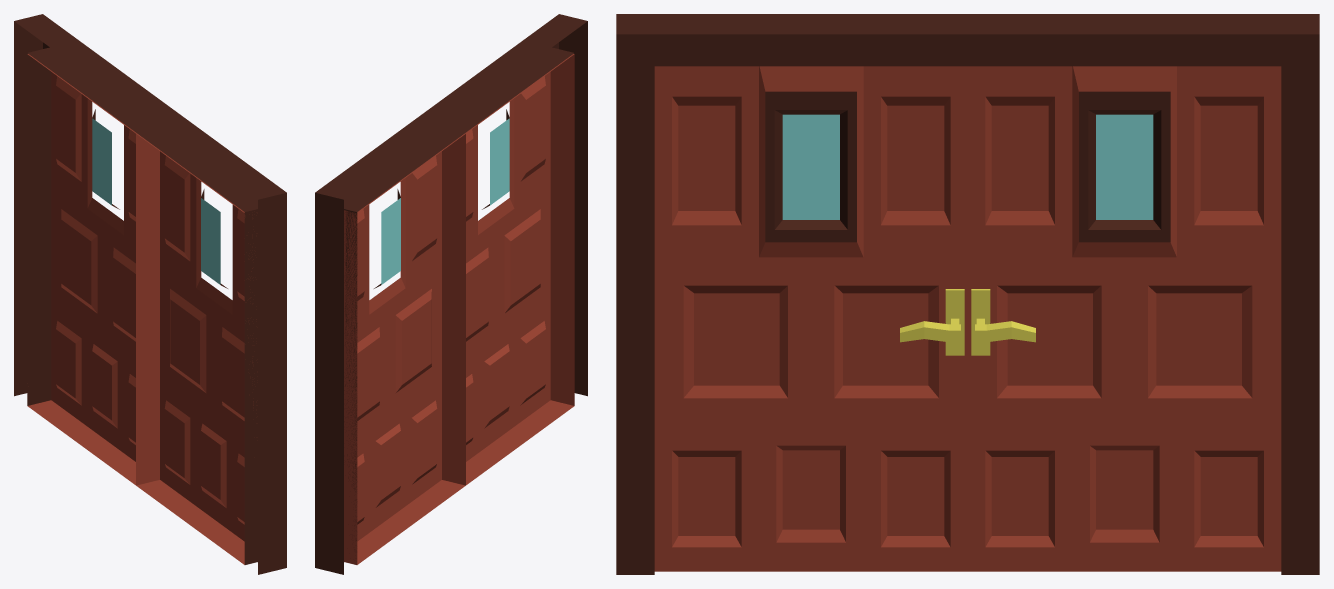
File: Puerta_ventanuco_2_hojas_01.fbx
3 renders of one model, left to right at view 1: azimuth 30°, elevation 25°; view 2: azimuth 150°, elevation 25°; view 3: azimuth 270°, elevation 25°, orthographic. The views are drawn at different scales.
Visible parts, largest first — view 1: Puerta_basica_1_hoja.004, Puerta_ventanuco_01.001, Puerta_ventanuco_01.002; view 2: Puerta_ventanuco_01.002, Puerta_ventanuco_01.001, Puerta_basica_1_hoja.004; view 3: Puerta_ventanuco_01.001, Puerta_ventanuco_01.002, Puerta_basica_1_hoja.004.
Boxes of the visible parts, x1=… form: Puerta_basica_1_hoja.004: x1=14, y1=14, x2=286, y2=574; Puerta_ventanuco_01.001: x1=136, y1=133, x2=256, y2=564; Puerta_ventanuco_01.002: x1=27, y1=54, x2=136, y2=485; Puerta_ventanuco_01.002: x1=344, y1=133, x2=465, y2=564; Puerta_ventanuco_01.001: x1=442, y1=54, x2=574, y2=485; Puerta_basica_1_hoja.004: x1=315, y1=14, x2=587, y2=574; Puerta_ventanuco_01.001: x1=654, y1=66, x2=967, y2=571; Puerta_ventanuco_01.002: x1=968, y1=66, x2=1281, y2=571; Puerta_basica_1_hoja.004: x1=616, y1=14, x2=1319, y2=574.
Size of the model in its own units: 28.8 by 228 by 269.
